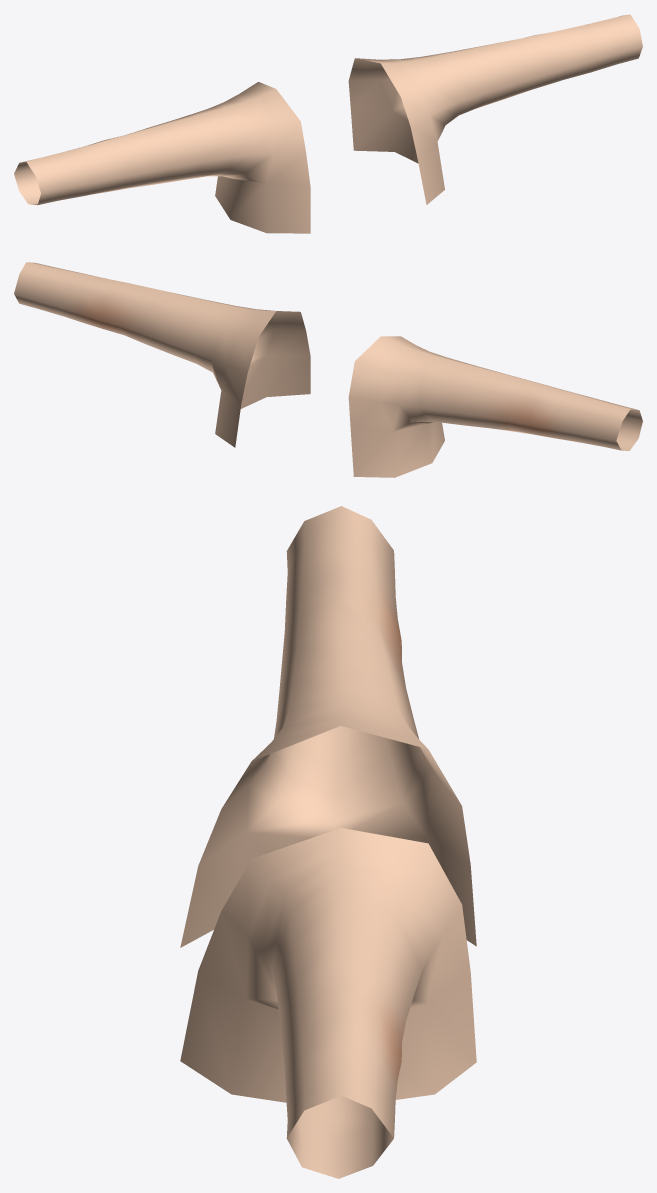
File: Body_White_ArmB_2.fbx
3 renders of one model, top to bottom at view 1: azimuth 30°, elevation 25°; view 2: azimuth 150°, elevation 25°; view 3: azimuth 270°, elevation 25°, orthographic. The views are drawn at different scales.
Parts seen in each view (by area): view 1: Body_White_ArmB_2; view 2: Body_White_ArmB_2; view 3: Body_White_ArmB_2.
Part boxes in pixels (<box>): Body_White_ArmB_2: <box>14,14,642,233</box>; Body_White_ArmB_2: <box>14,262,642,477</box>; Body_White_ArmB_2: <box>180,506,476,1178</box>.
Size of the model in its own units: 95.86 by 17.74 by 20.37.
